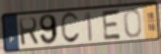1: (83, 11, 93, 43)
9: (39, 13, 60, 47)
C: (59, 11, 82, 45)
E: (101, 8, 123, 42)
O: (123, 7, 143, 39)
R: (17, 16, 40, 47)
